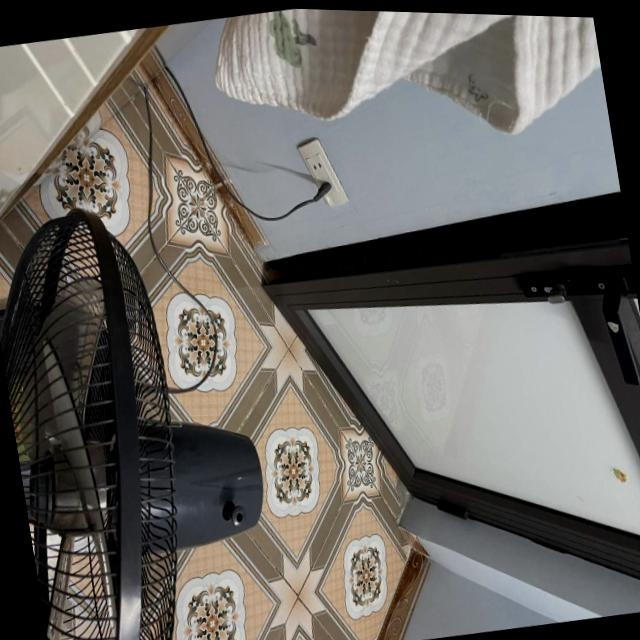outlet: (294, 133, 350, 212)
